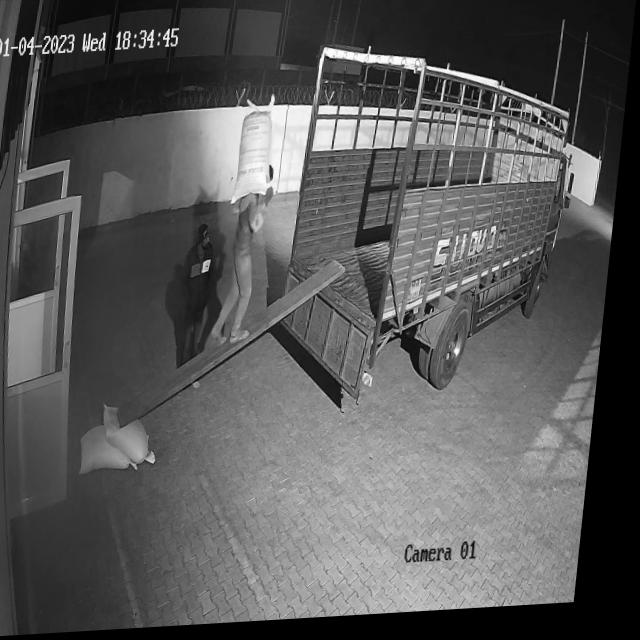sack: (235, 98, 280, 206), (107, 401, 170, 468), (89, 425, 153, 477)
